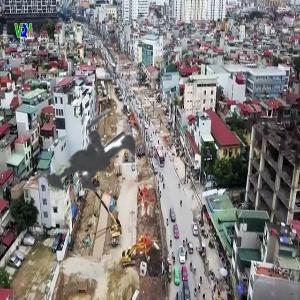drone: (3, 71, 194, 262)
